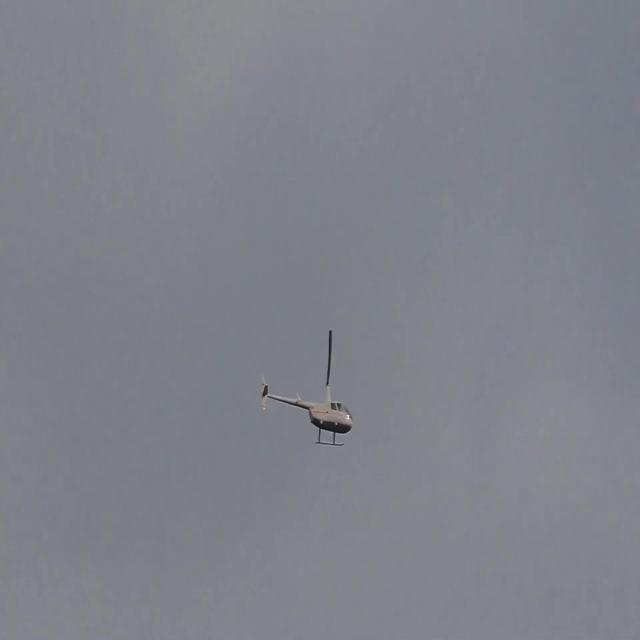CIV_HELO: (260, 373, 354, 448)
